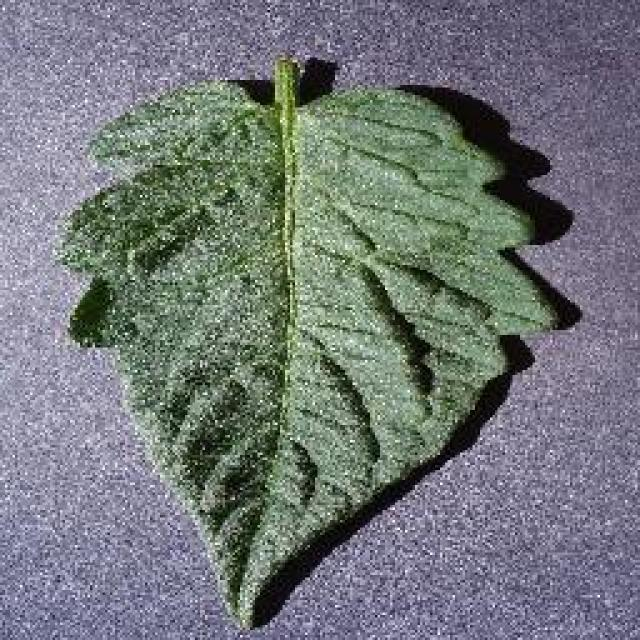Tomato___healthy: (57, 51, 557, 630)
